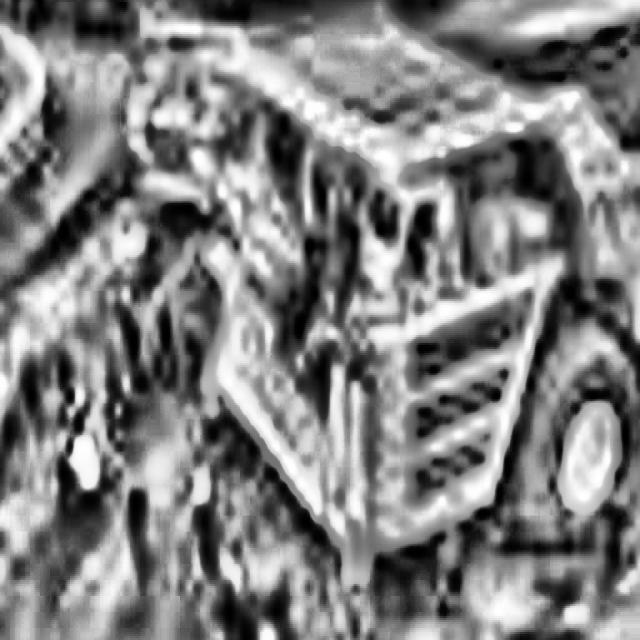dump_truck: (176, 0, 640, 586)
